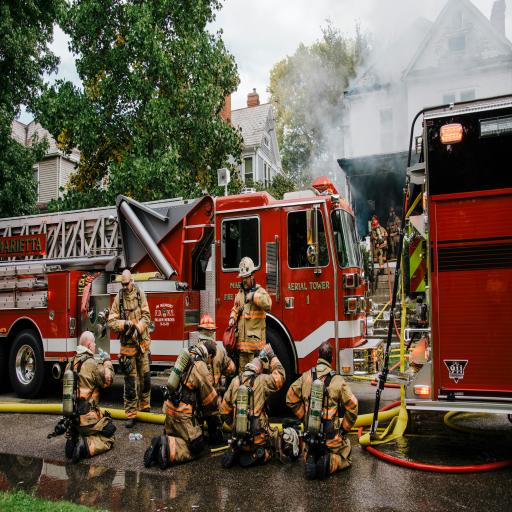smoke: (300, 20, 512, 158)
